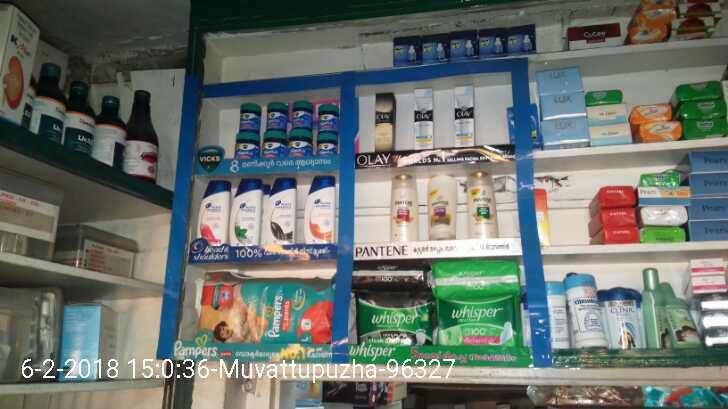vicks: (235, 99, 339, 156)
